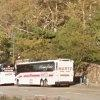Bus: (10, 52, 79, 89)
